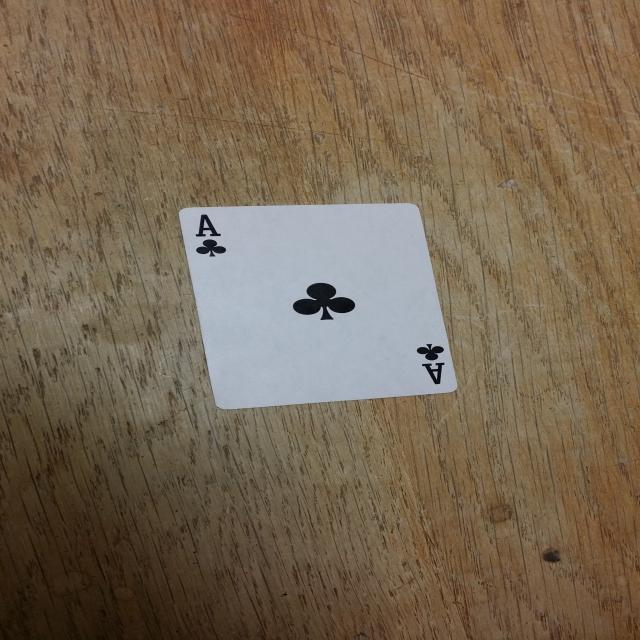Ac: (179, 211, 243, 262), (400, 337, 460, 389)
